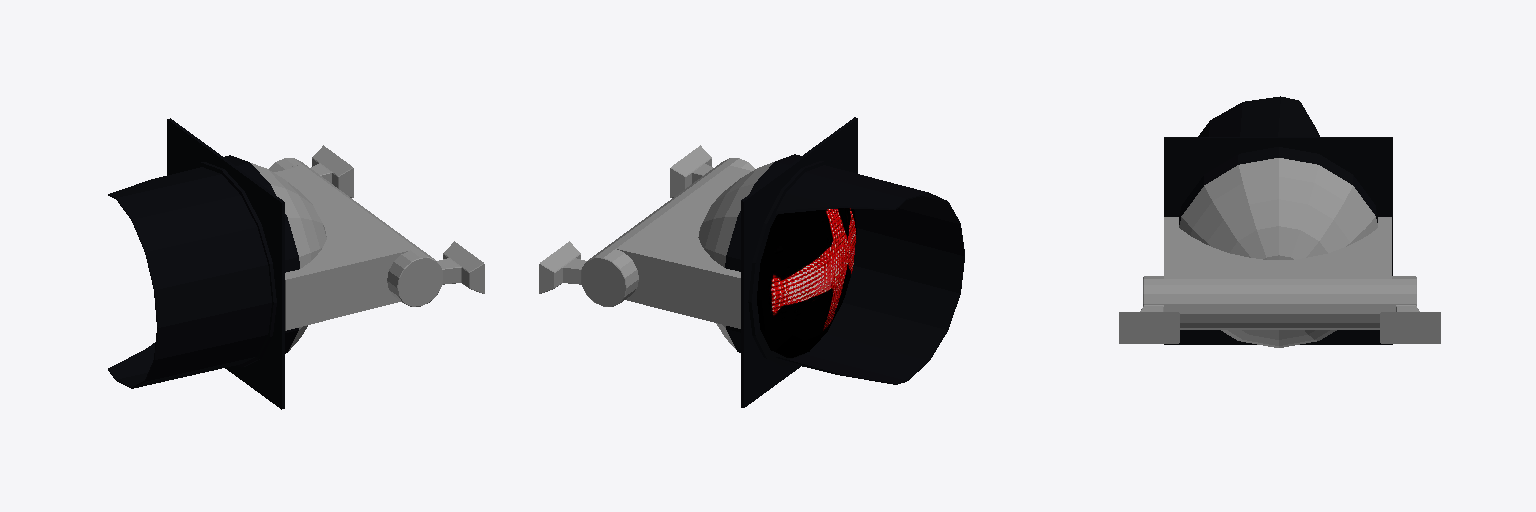
3 views of the same model, side by side, from view 1: azimuth 30°, elevation 25°; view 2: azimuth 150°, elevation 25°; view 3: azimuth 270°, elevation 25° (orthographic).
Parts seen in each view (by area): view 1: Sonnenblende.003_Cylinder.005, Cube.003_Cube.005, Blende.003_Cube.006, BezierCurve.001_BezierCurve.002, Masthalterung.002_Cylinder.006, Masthalterung.003_Cylinder.006; view 2: Sonnenblende.003_Cylinder.005, BezierCurve.001_BezierCurve.002, Cube.003_Cube.005, Blende.003_Cube.006, Masthalterung.003_Cylinder.006, Masthalterung.002_Cylinder.006; view 3: Cube.003_Cube.005, BezierCurve.001_BezierCurve.002, Blende.003_Cube.006, Sonnenblende.003_Cylinder.005, Masthalterung.003_Cylinder.006, Masthalterung.002_Cylinder.006.
Part boxes in pixels (left/top/right/bottom): Sonnenblende.003_Cylinder.005: left=108, top=167, right=271, bottom=388; Cube.003_Cube.005: left=274, top=165, right=425, bottom=330; Blende.003_Cube.006: left=167, top=118, right=284, bottom=409; BezierCurve.001_BezierCurve.002: left=184, top=155, right=326, bottom=367; Masthalterung.002_Cylinder.006: left=387, top=241, right=484, bottom=306; Masthalterung.003_Cylinder.006: left=269, top=145, right=353, bottom=197; Sonnenblende.003_Cylinder.005: left=776, top=165, right=964, bottom=384; BezierCurve.001_BezierCurve.002: left=698, top=154, right=856, bottom=366; Cube.003_Cube.005: left=598, top=165, right=751, bottom=328; Blende.003_Cube.006: left=741, top=117, right=857, bottom=407; Masthalterung.003_Cylinder.006: left=539, top=241, right=636, bottom=306; Masthalterung.002_Cylinder.006: left=670, top=145, right=754, bottom=197; Cube.003_Cube.005: left=1164, top=217, right=1395, bottom=329; BezierCurve.001_BezierCurve.002: left=1179, top=147, right=1377, bottom=347; Blende.003_Cube.006: left=1164, top=137, right=1392, bottom=344; Sonnenblende.003_Cylinder.005: left=1198, top=96, right=1319, bottom=136; Masthalterung.003_Cylinder.006: left=1380, top=276, right=1440, bottom=343; Masthalterung.002_Cylinder.006: left=1119, top=276, right=1179, bottom=343.
Size of the model in its own units: 0.5668 by 0.3789 by 0.5357.
3 materials, 3 textured.